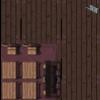Hide: (42, 59, 60, 100)
Obstacle: (0, 39, 21, 60), (0, 79, 21, 100), (20, 40, 41, 60), (20, 60, 41, 80), (0, 60, 20, 80), (20, 80, 40, 100)
Win: (83, 0, 100, 17)
